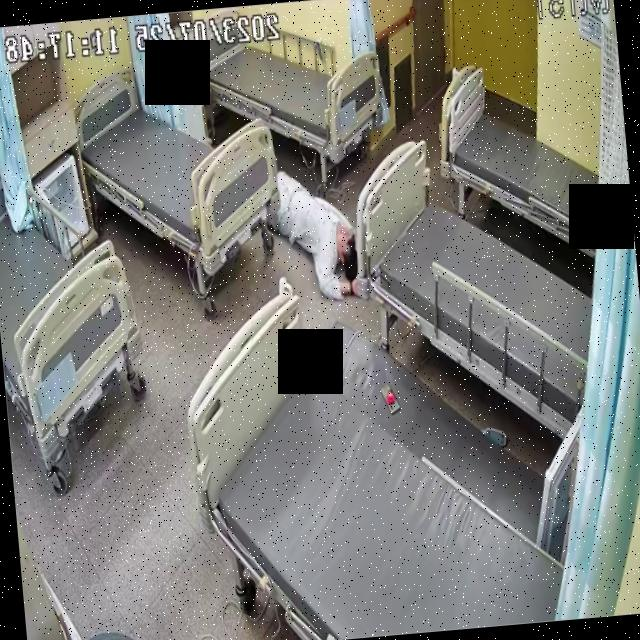bed: (186, 279, 569, 640), (350, 130, 608, 444), (0, 158, 146, 462), (74, 65, 285, 262), (432, 54, 607, 264), (197, 12, 382, 172)
fall: (262, 164, 364, 308)
patient: (262, 159, 365, 304)
